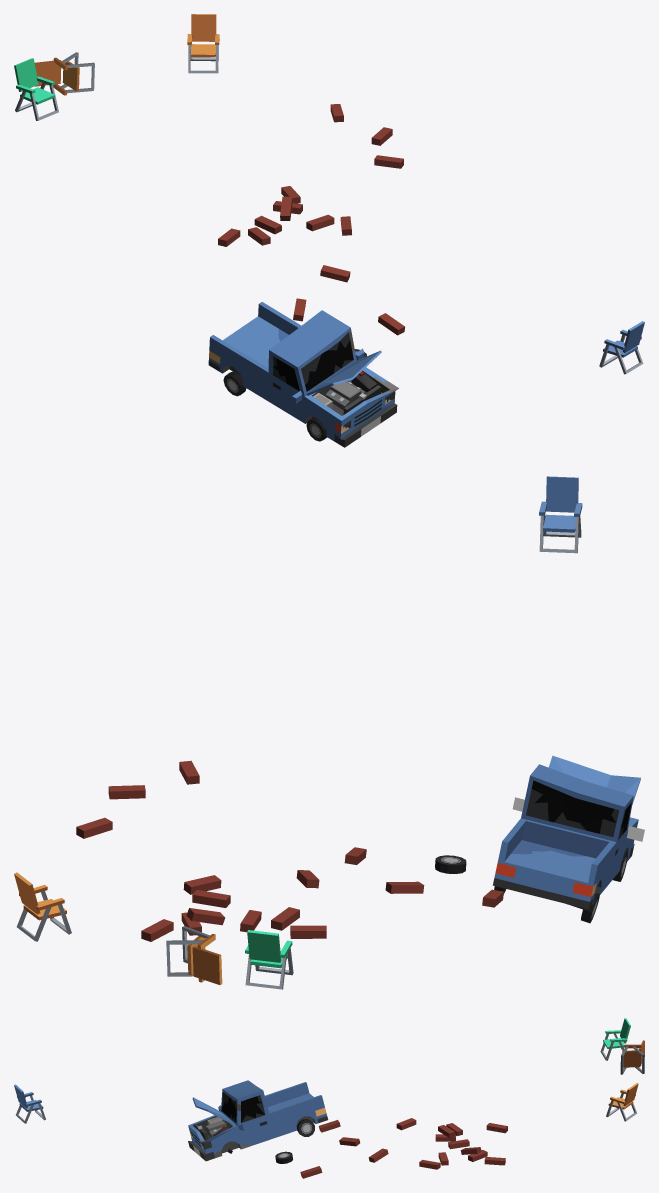
Rendered from SA_Env_Pool_Extras_01.gltf.
3 views of the same model, one above another, from view 1: azimuth 30°, elevation 25°; view 2: azimuth 150°, elevation 25°; view 3: azimuth 270°, elevation 25° (orthographic). The views are drawn at different scales.
Parts seen in each view (by area): view 1: SA_Env_Pool_Extras_01; view 2: SA_Env_Pool_Extras_01; view 3: SA_Env_Pool_Extras_01.
Boxes of the visible parts, x1,y1,x2,y2 form: SA_Env_Pool_Extras_01: (14, 14, 644, 447); SA_Env_Pool_Extras_01: (14, 476, 644, 989); SA_Env_Pool_Extras_01: (14, 1018, 644, 1178).
Size of the model in its own units: 11.56 by 6.68 by 31.08.
Materials: 1 (1 with a texture image).
